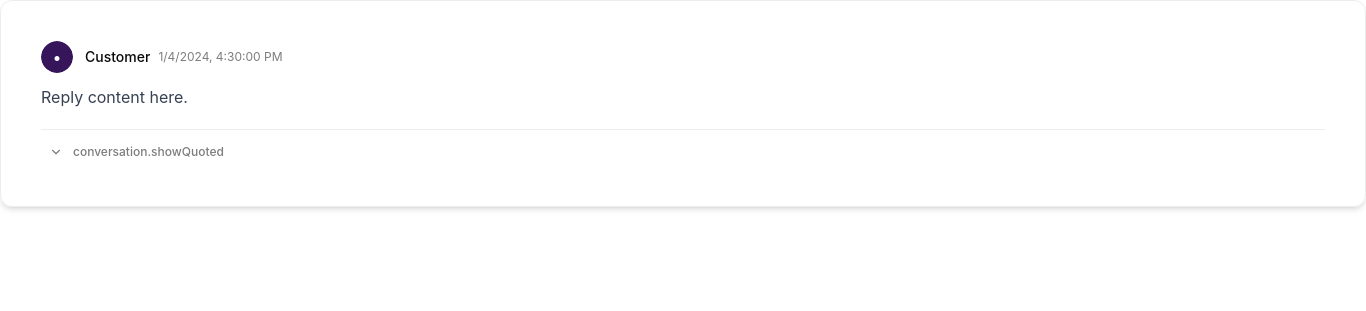
Test: MessageItem - Gmail Quote Collapse › expands quoted content when toggle is clicked
// Click the show quoted toggle
Click the button "conversation.showQuoted": (136, 152) [41, 138, 232, 166]
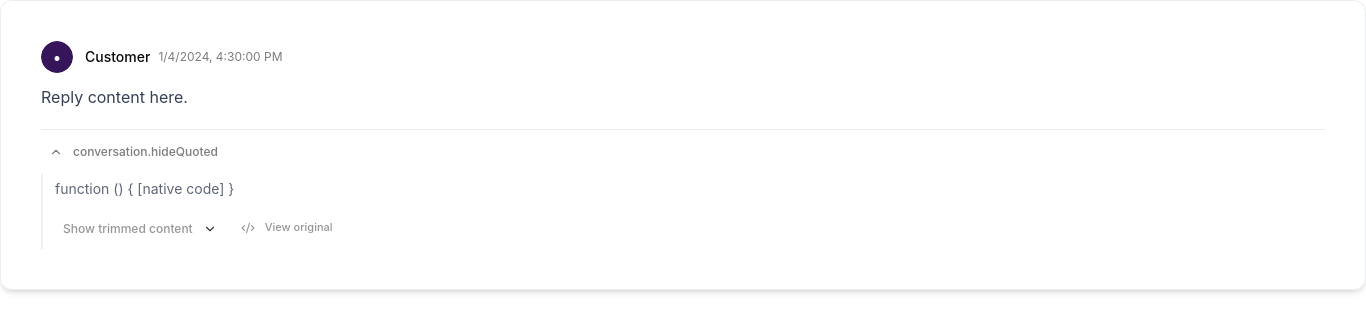
expect the button "conversation.hideQuoted" is shown: met, box [41, 138, 226, 166]
